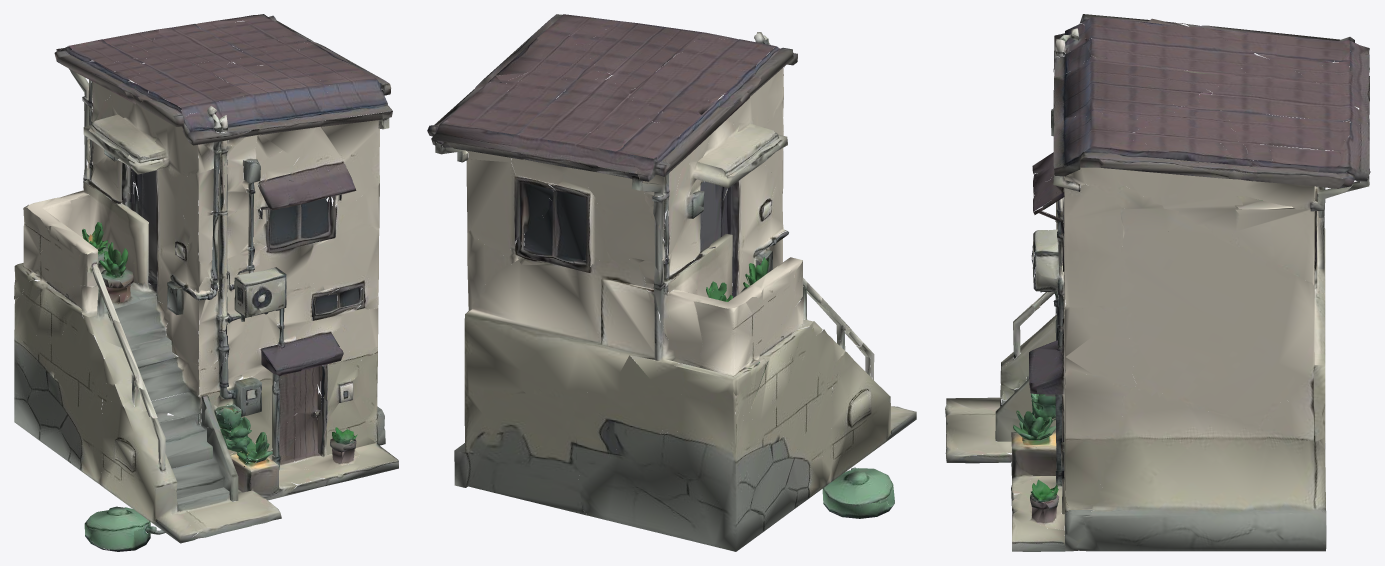
File: building9.glb
3 views of the same model, side by side, from view 1: azimuth 30°, elevation 25°; view 2: azimuth 150°, elevation 25°; view 3: azimuth 270°, elevation 25° (orthographic). The views are drawn at different scales.
Visible parts, largest first — view 1: tripo_node_45603422-efe1-4db4-b692-1e0aebc67398; view 2: tripo_node_45603422-efe1-4db4-b692-1e0aebc67398; view 3: tripo_node_45603422-efe1-4db4-b692-1e0aebc67398.
Part boxes in pixels (x1=…): tripo_node_45603422-efe1-4db4-b692-1e0aebc67398: x1=14, y1=14, x2=398, y2=551; tripo_node_45603422-efe1-4db4-b692-1e0aebc67398: x1=427, y1=14, x2=916, y2=551; tripo_node_45603422-efe1-4db4-b692-1e0aebc67398: x1=945, y1=14, x2=1370, y2=551.
Size of the model in its own units: 0.7737 by 1 by 0.8229.
Materials: 1 (1 with a texture image).
